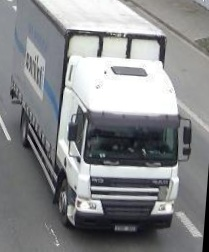truck: (0, 0, 203, 241)
